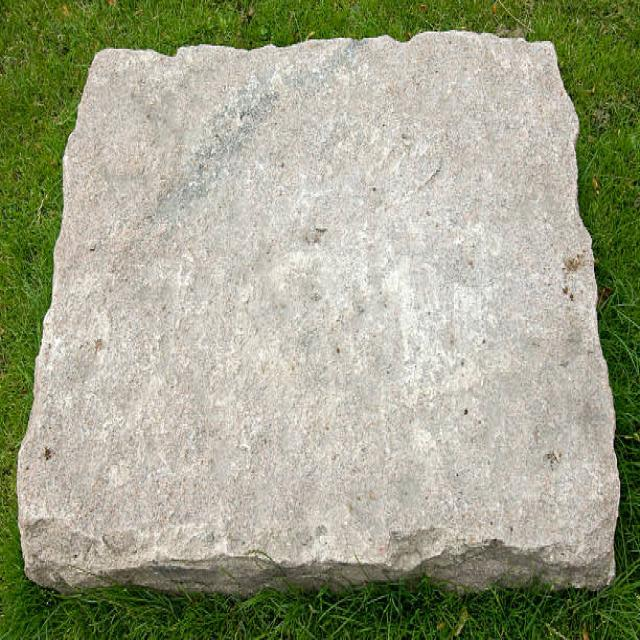Metamorphic: (28, 31, 628, 598)
